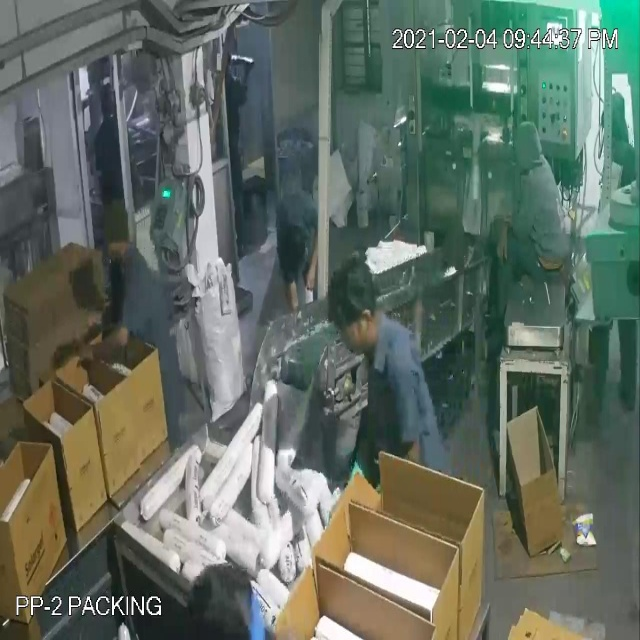Sin_guantes: (64, 320, 154, 372), (281, 260, 302, 330), (304, 227, 323, 300), (497, 212, 516, 276)
